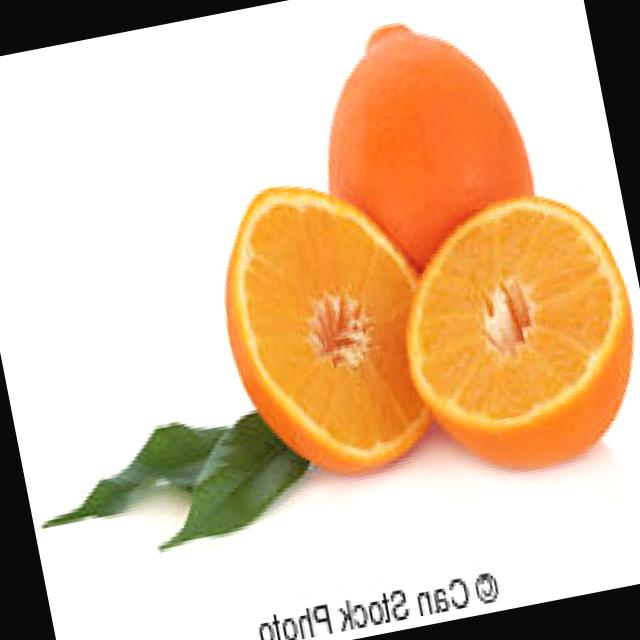orange: (292, 0, 584, 383)
